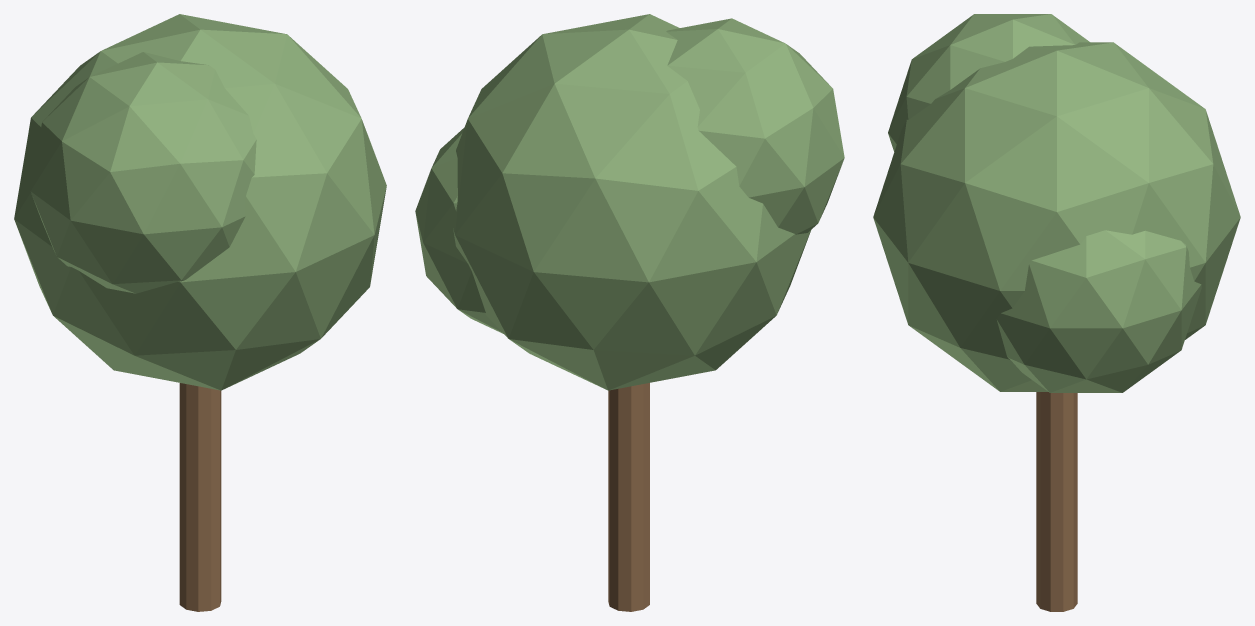
Rendered from garden_tree.glb.
3 views of the same model, side by side, from view 1: azimuth 30°, elevation 25°; view 2: azimuth 150°, elevation 25°; view 3: azimuth 270°, elevation 25° (orthographic). The views are drawn at different scales.
Visible parts, largest first — view 1: Tree crown, Tree crown.002, Tree trunk; view 2: Tree crown, Tree crown.002, Tree trunk, Tree crown.001; view 3: Tree crown, Tree crown.001, Tree trunk, Tree crown.002.
Boxes of the visible parts, bbox=[...] form: Tree crown: bbox=[14, 14, 386, 390]; Tree crown.002: bbox=[30, 52, 256, 293]; Tree trunk: bbox=[179, 383, 221, 611]; Tree crown: bbox=[453, 14, 810, 390]; Tree crown.002: bbox=[666, 18, 844, 234]; Tree trunk: bbox=[608, 383, 649, 611]; Tree crown.001: bbox=[415, 127, 503, 333]; Tree crown: bbox=[873, 42, 1240, 391]; Tree crown.001: bbox=[996, 230, 1201, 392]; Tree trunk: bbox=[1036, 392, 1077, 611]; Tree crown.002: bbox=[888, 14, 1089, 151].
Bounding box in the file's own units: 2.67 × 4.15 × 2.5.
